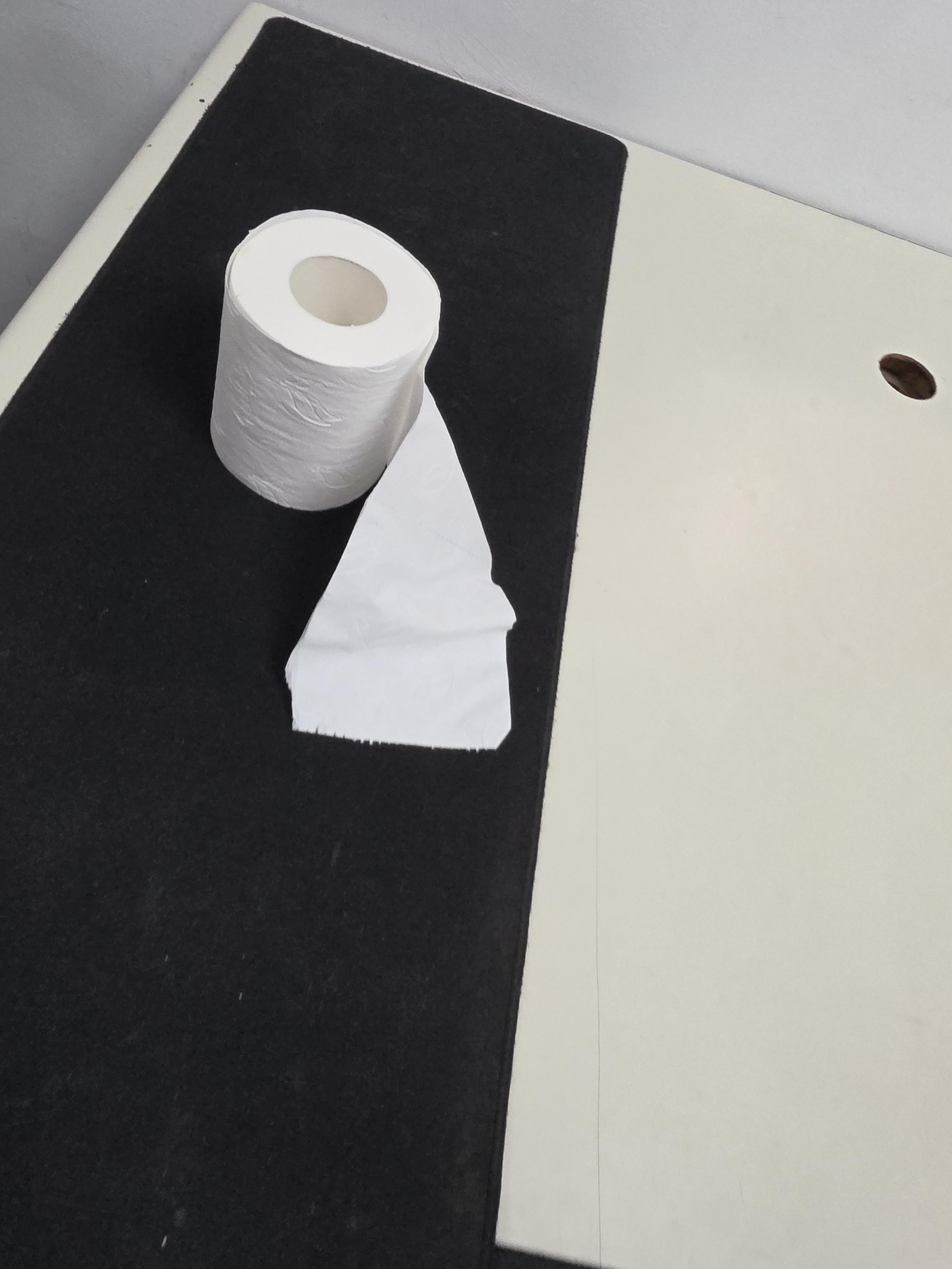tissue: (210, 209, 517, 751)
